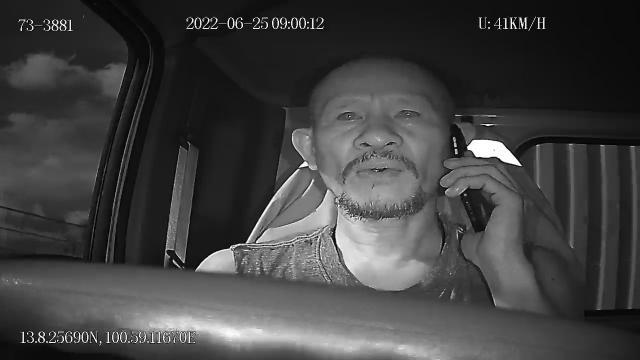PhoneUse: (449, 124, 485, 232)
SafeDriving: (328, 99, 368, 130), (386, 98, 428, 127)
